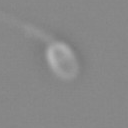normal: (2, 8, 50, 42)
